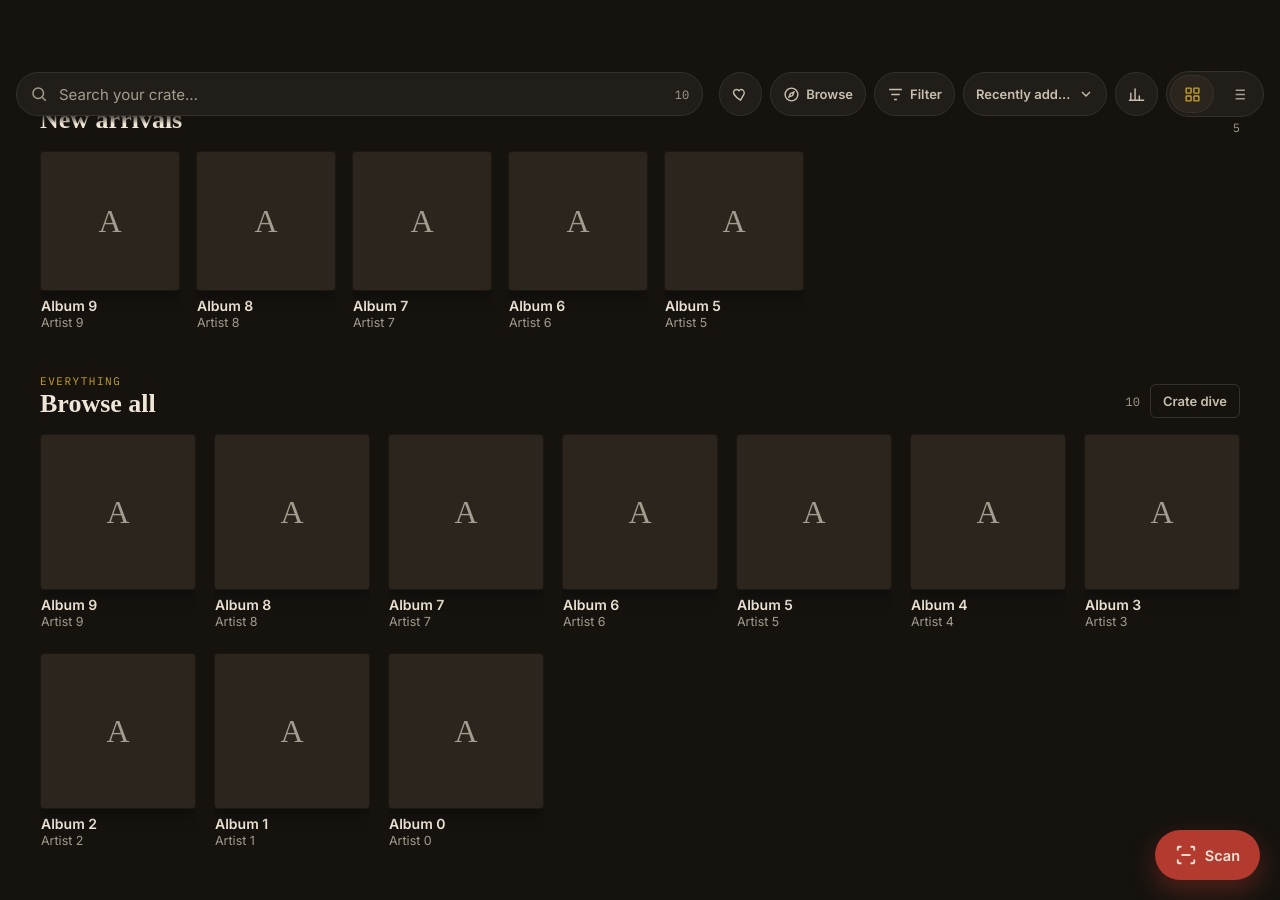
Scenario: CollectionView — The Aisles (§ Phase 2) › decade axis buckets years and shows Other for missing years
Expected: the heading "Browse all" is shown, [40,390,156,418]
Step 1. Click the button "Browse" → (818, 94), box [770,72,866,116]
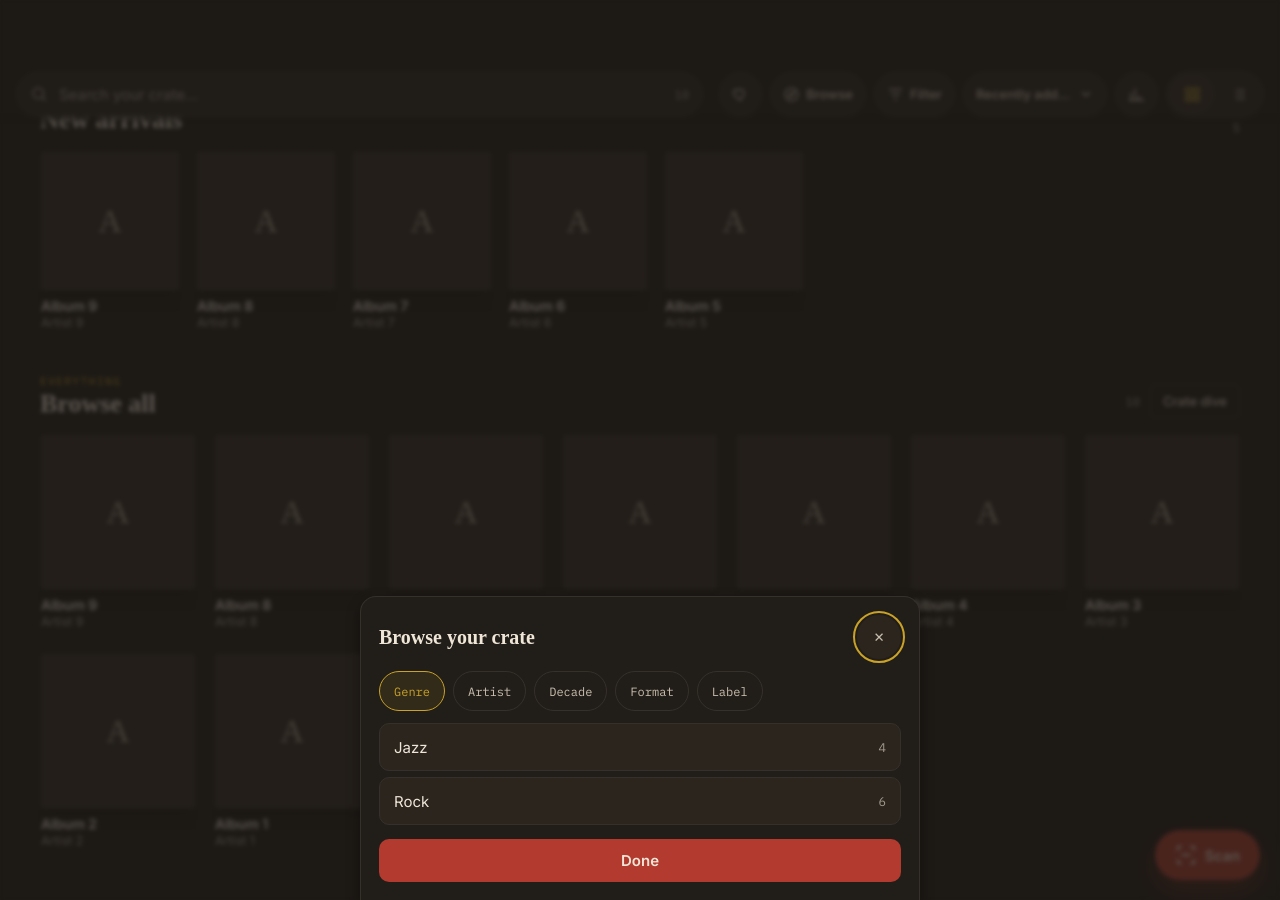
Step 2. Click the button "Decade" → (571, 691), box [534,671,607,711]
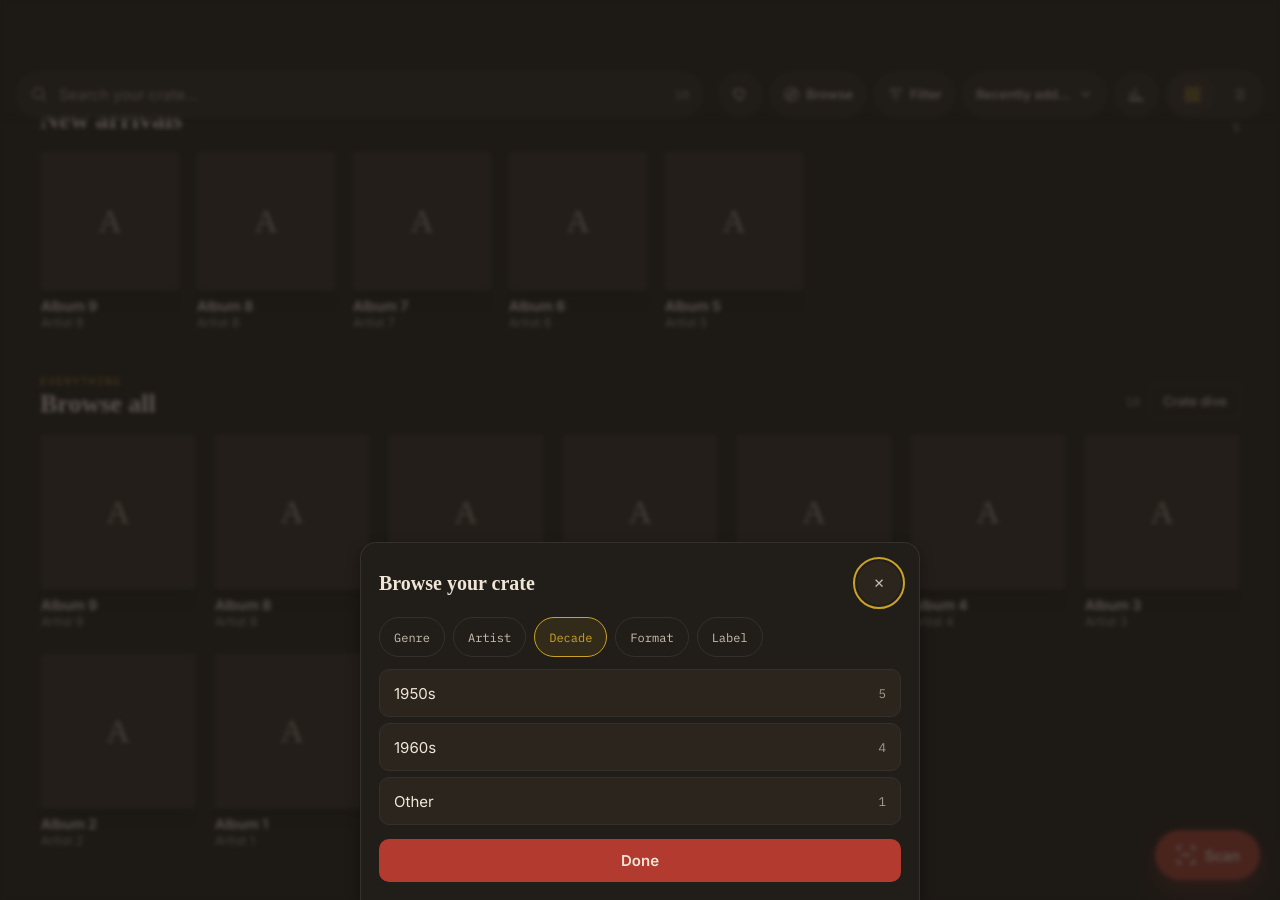
Expected: the button "1950s 5" is shown, [379,669,901,717]
Expected: the button "1960s 4" is shown, [379,723,901,771]
Expected: the button "Other 1" is shown, [379,777,901,825]
